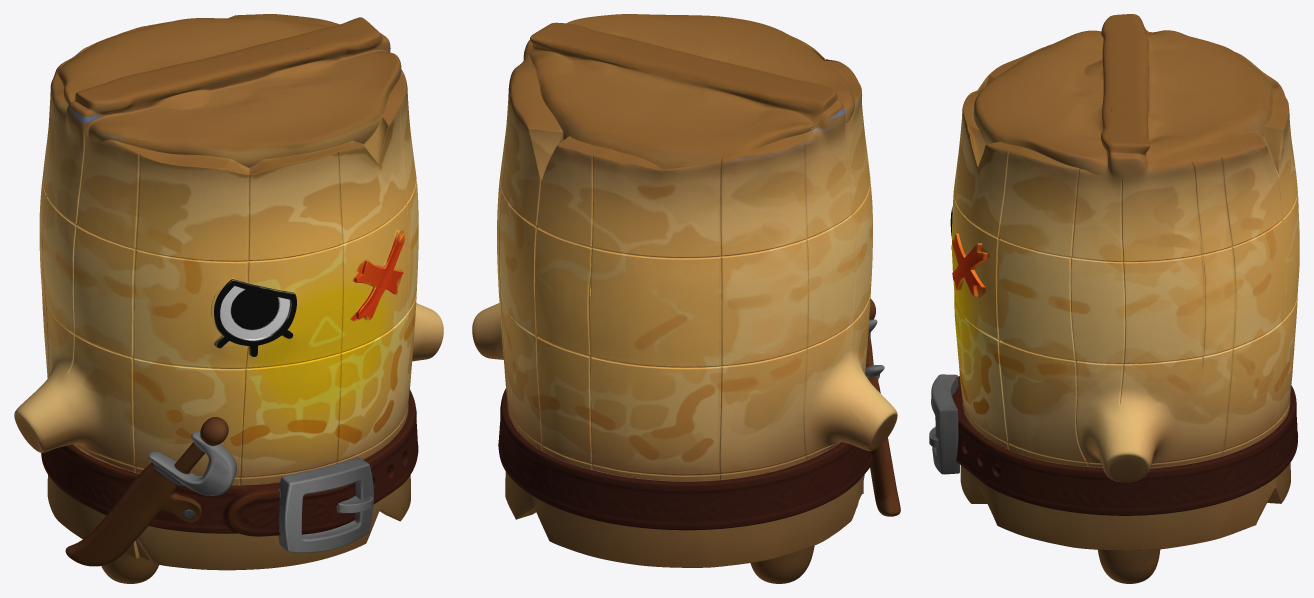
Rendered from Sprite2.glb.
The picture shows the model from 3 angles, left to right: view 1: azimuth 30°, elevation 25°; view 2: azimuth 150°, elevation 25°; view 3: azimuth 270°, elevation 25°; orthographic projection. The views are drawn at different scales.
Bounding box in the file's own units: 1.67 × 1.9 × 1.4.
1 material, 1 textured.
